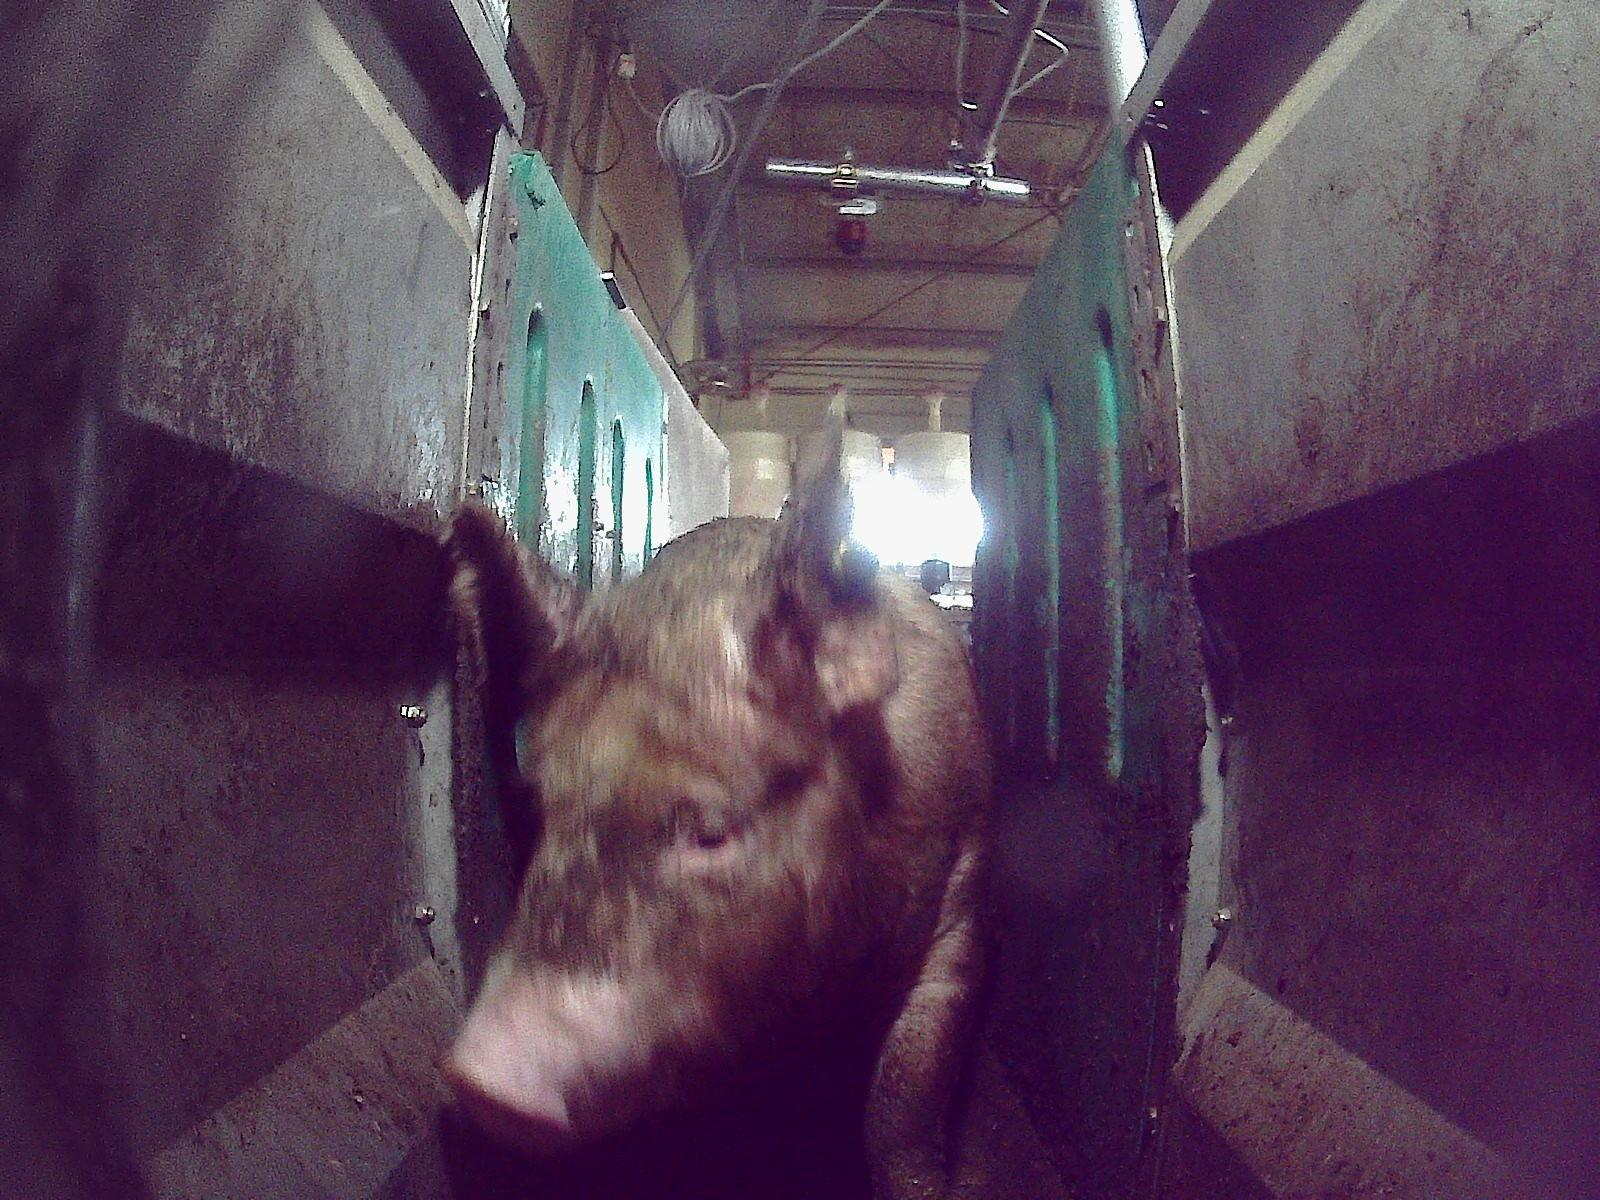Face: (434, 624, 863, 1148)
